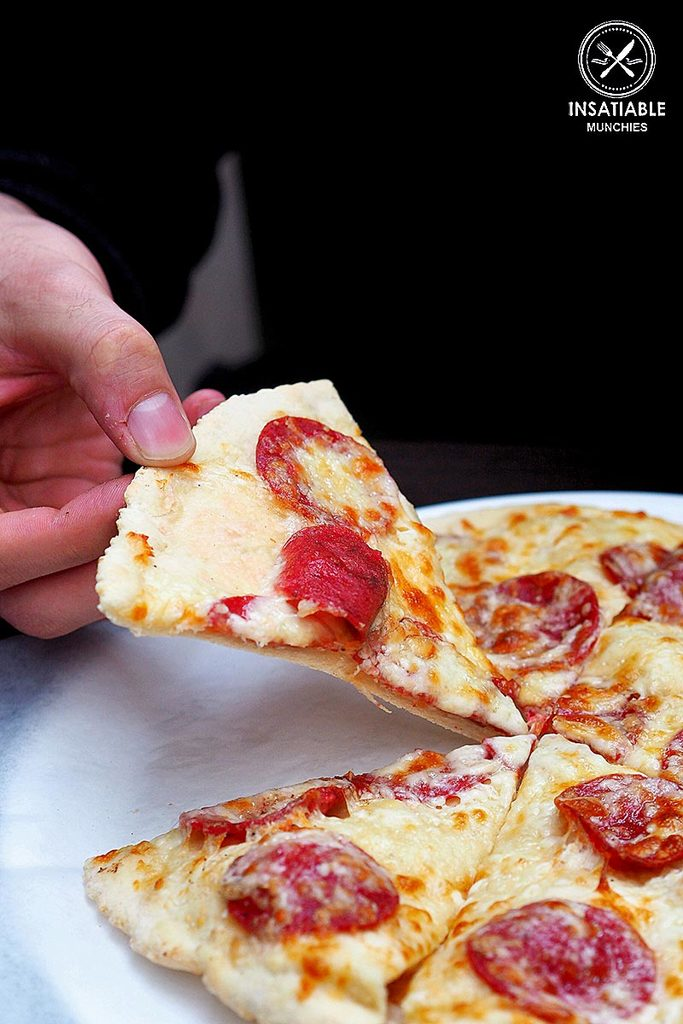Pizza: (84, 419, 611, 762), (73, 731, 526, 1018), (398, 734, 682, 1023), (415, 487, 682, 721), (551, 546, 682, 804)
